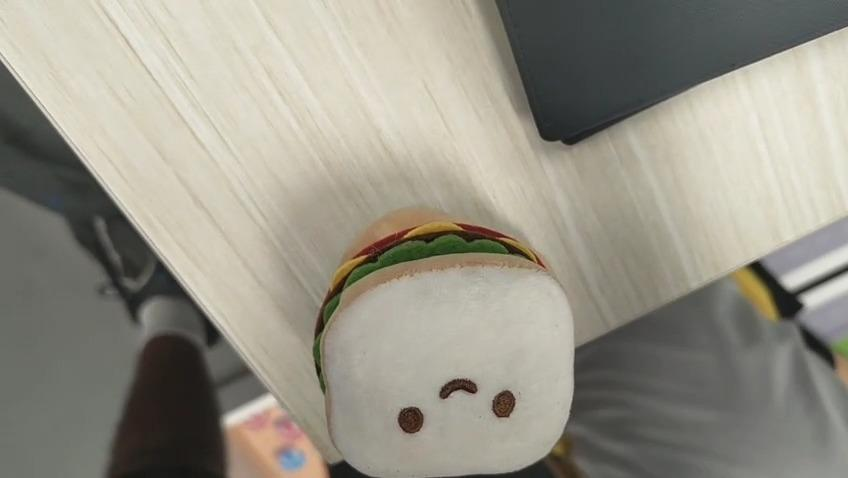objects: (315, 207, 575, 478)
